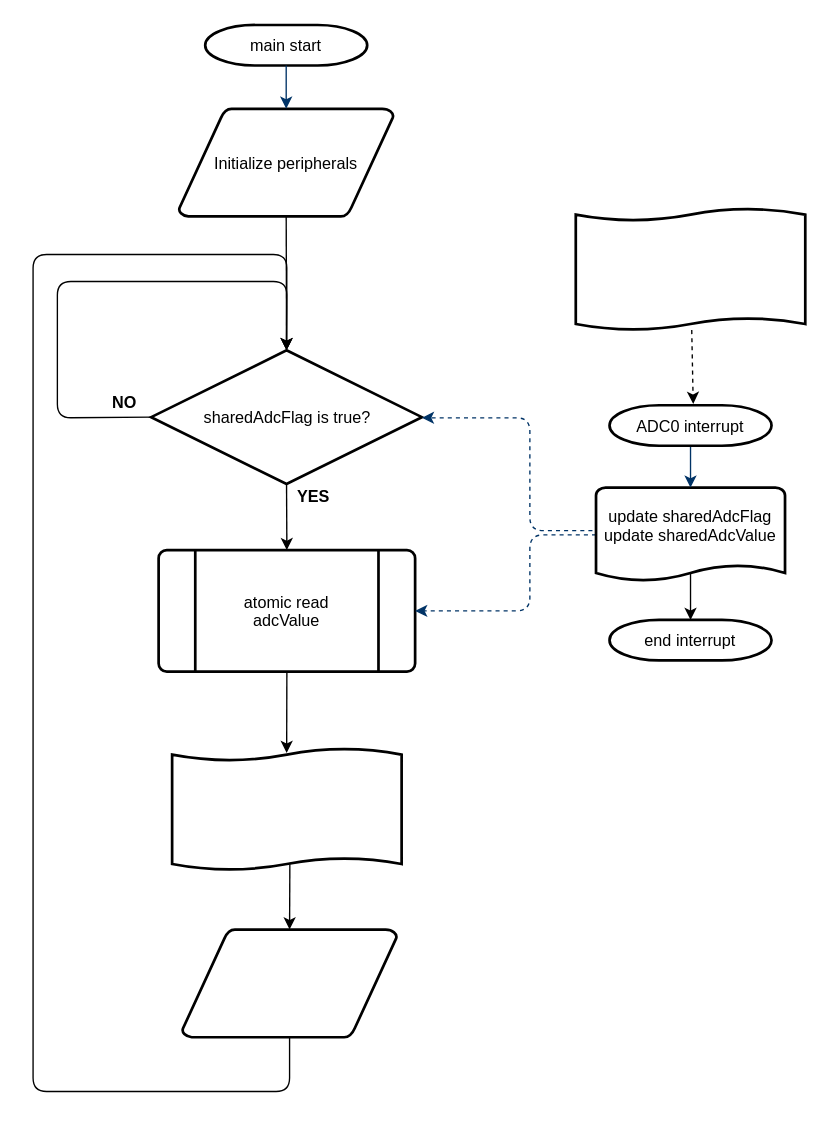
This 830x1126 diagram has some shape labels left out. The centre of each missing label's shape, as x and y in pixels:
clear sharedAdcFlag: pixel 289 982
Print adcValue via USART1 and toggle LED0 (PC6): pixel 286 809
The on-board button (PC7) changed its state (event system generator): pixel 690 269
